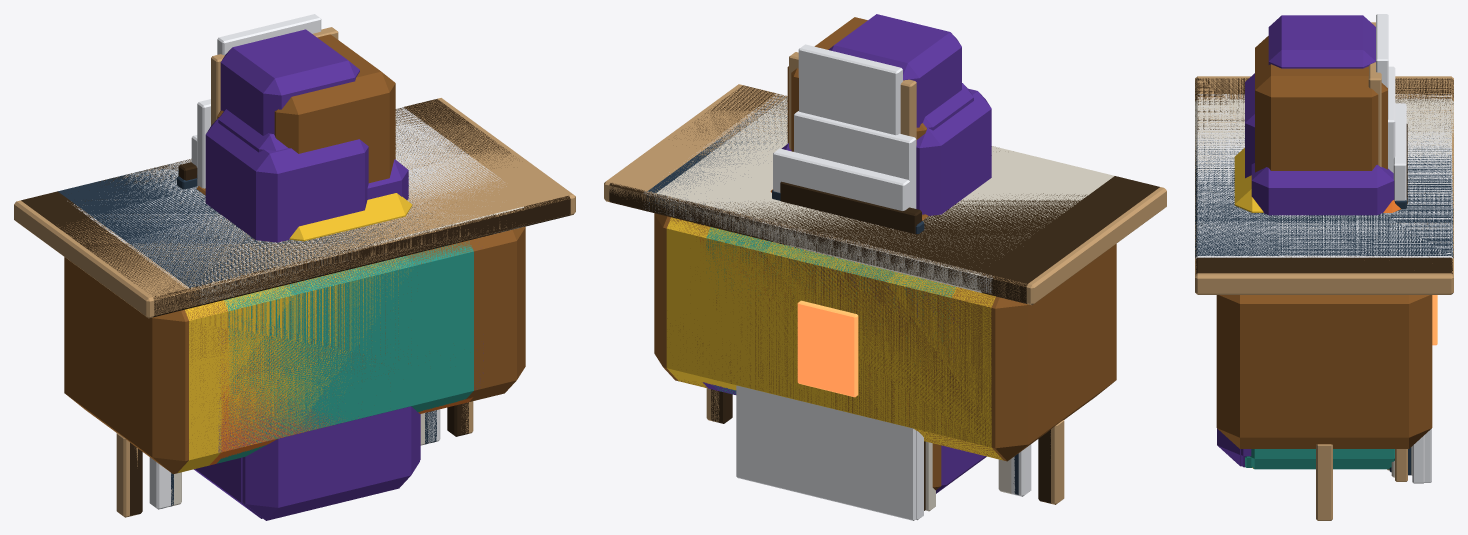
File: flagship_props_012.glb
3 views of the same model, side by side, from view 1: azimuth 30°, elevation 25°; view 2: azimuth 150°, elevation 25°; view 3: azimuth 270°, elevation 25° (orthographic). The views are drawn at different scales.
Parts seen in each view (by area): view 1: Prop_BBIsle_Coop_17, Prop_BBIsle_Coop_15, Prop_BBIsle_Coop_16, Prop_BBIsle_Crate_11, Prop_BBIsle_Coop_19, Prop_BBIsle_Coop_18, Prop_BBIsle_Crate_01, Prop_BBIsle_Crate_15, Prop_BBIsle_Crate_03, Prop_BBIsle_Crate_16, Prop_BBIsle_Crate_06; view 2: Prop_BBIsle_Coop_15, Prop_BBIsle_Coop_17, Prop_BBIsle_Crate_11, Prop_BBIsle_Coop_16, Prop_BBIsle_Crate_01, Prop_BBIsle_Crate_03, Prop_BBIsle_Crate_15, Prop_BBIsle_Coop_18, Prop_BBIsle_Coop_19, Prop_BBIsle_Crate_06, Prop_BBIsle_Crate_16; view 3: Prop_BBIsle_Coop_17, Prop_BBIsle_Coop_18, Prop_BBIsle_Coop_19, Prop_BBIsle_Crate_11, Prop_BBIsle_Crate_15, Prop_BBIsle_Coop_15, Prop_BBIsle_Coop_16, Prop_BBIsle_Crate_09, Prop_BBIsle_Crate_01, Prop_BBIsle_Crate_03, Prop_BBIsle_Crate_16.
Part boxes in pixels (x1,y1,x2,y2): Prop_BBIsle_Coop_17: (14, 98, 575, 517); Prop_BBIsle_Coop_15: (21, 99, 570, 515); Prop_BBIsle_Coop_16: (130, 114, 523, 506); Prop_BBIsle_Crate_11: (191, 14, 419, 520); Prop_BBIsle_Coop_19: (58, 155, 472, 508); Prop_BBIsle_Coop_18: (67, 107, 518, 509); Prop_BBIsle_Crate_01: (197, 99, 368, 242); Prop_BBIsle_Crate_15: (211, 27, 395, 183); Prop_BBIsle_Crate_03: (178, 162, 412, 241); Prop_BBIsle_Crate_16: (194, 457, 262, 518); Prop_BBIsle_Crate_06: (218, 109, 420, 459); Prop_BBIsle_Coop_15: (609, 85, 1159, 503); Prop_BBIsle_Coop_17: (604, 84, 1166, 504); Prop_BBIsle_Crate_11: (736, 14, 961, 520); Prop_BBIsle_Coop_16: (655, 97, 1114, 494); Prop_BBIsle_Crate_01: (794, 88, 991, 215); Prop_BBIsle_Crate_03: (780, 181, 921, 233); Prop_BBIsle_Crate_15: (787, 17, 941, 490); Prop_BBIsle_Coop_18: (643, 93, 1031, 496); Prop_BBIsle_Coop_19: (646, 96, 1018, 494); Prop_BBIsle_Crate_06: (915, 83, 973, 520); Prop_BBIsle_Crate_16: (936, 445, 986, 493); Prop_BBIsle_Coop_17: (1195, 76, 1453, 520); Prop_BBIsle_Coop_18: (1195, 94, 1453, 258); Prop_BBIsle_Coop_19: (1195, 124, 1453, 257); Prop_BBIsle_Crate_11: (1217, 14, 1431, 482); Prop_BBIsle_Crate_15: (1255, 22, 1407, 481); Prop_BBIsle_Coop_15: (1195, 78, 1453, 345); Prop_BBIsle_Coop_16: (1195, 99, 1453, 250); Prop_BBIsle_Crate_09: (1250, 449, 1394, 477); Prop_BBIsle_Crate_01: (1245, 66, 1395, 178); Prop_BBIsle_Crate_03: (1234, 124, 1407, 212); Prop_BBIsle_Crate_16: (1412, 435, 1424, 483).
Bounding box in the file's own units: 2.21 × 2.07 × 1.2.
